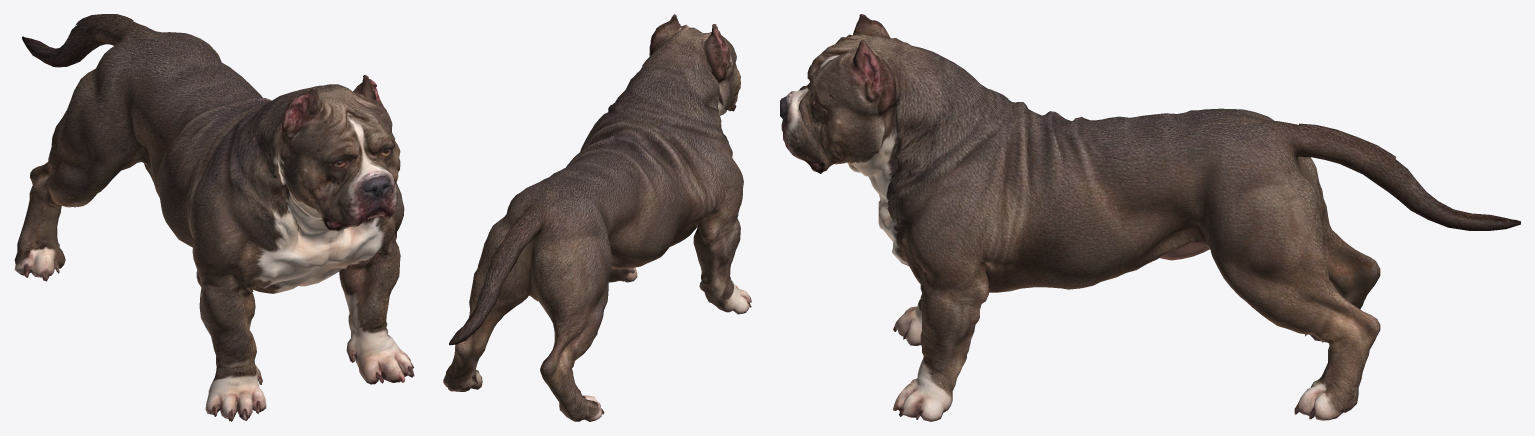
Rendered from american-bully.b46fc50b32.glb.
3 views of the same model, side by side, from view 1: azimuth 30°, elevation 25°; view 2: azimuth 150°, elevation 25°; view 3: azimuth 270°, elevation 25° (orthographic). The views are drawn at different scales.
Parts seen in each view (by area): view 1: tripo_node_7da6f5f3-808b-4755-a2d4-4e834d6e814a; view 2: tripo_node_7da6f5f3-808b-4755-a2d4-4e834d6e814a; view 3: tripo_node_7da6f5f3-808b-4755-a2d4-4e834d6e814a.
Part boxes in pixels (box(x1,y1,x2,y2)): tripo_node_7da6f5f3-808b-4755-a2d4-4e834d6e814a: box(14, 14, 414, 421); tripo_node_7da6f5f3-808b-4755-a2d4-4e834d6e814a: box(443, 14, 751, 421); tripo_node_7da6f5f3-808b-4755-a2d4-4e834d6e814a: box(780, 14, 1520, 421).
Bounding box in the file's own units: 0.3193 × 0.5028 × 0.9769.
1 material, 1 textured.
